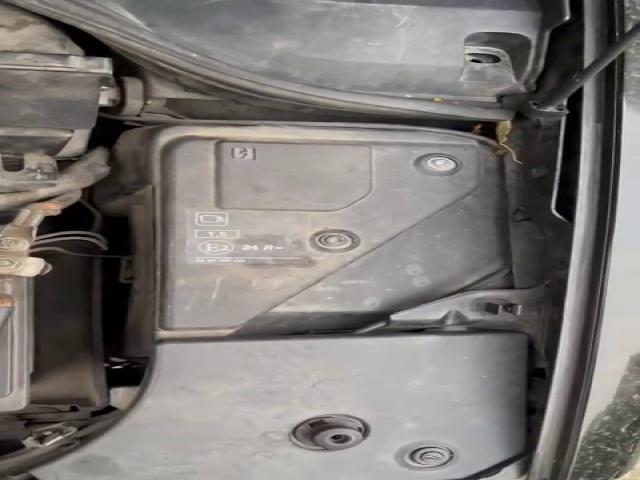fuse_box: (157, 128, 497, 333)
